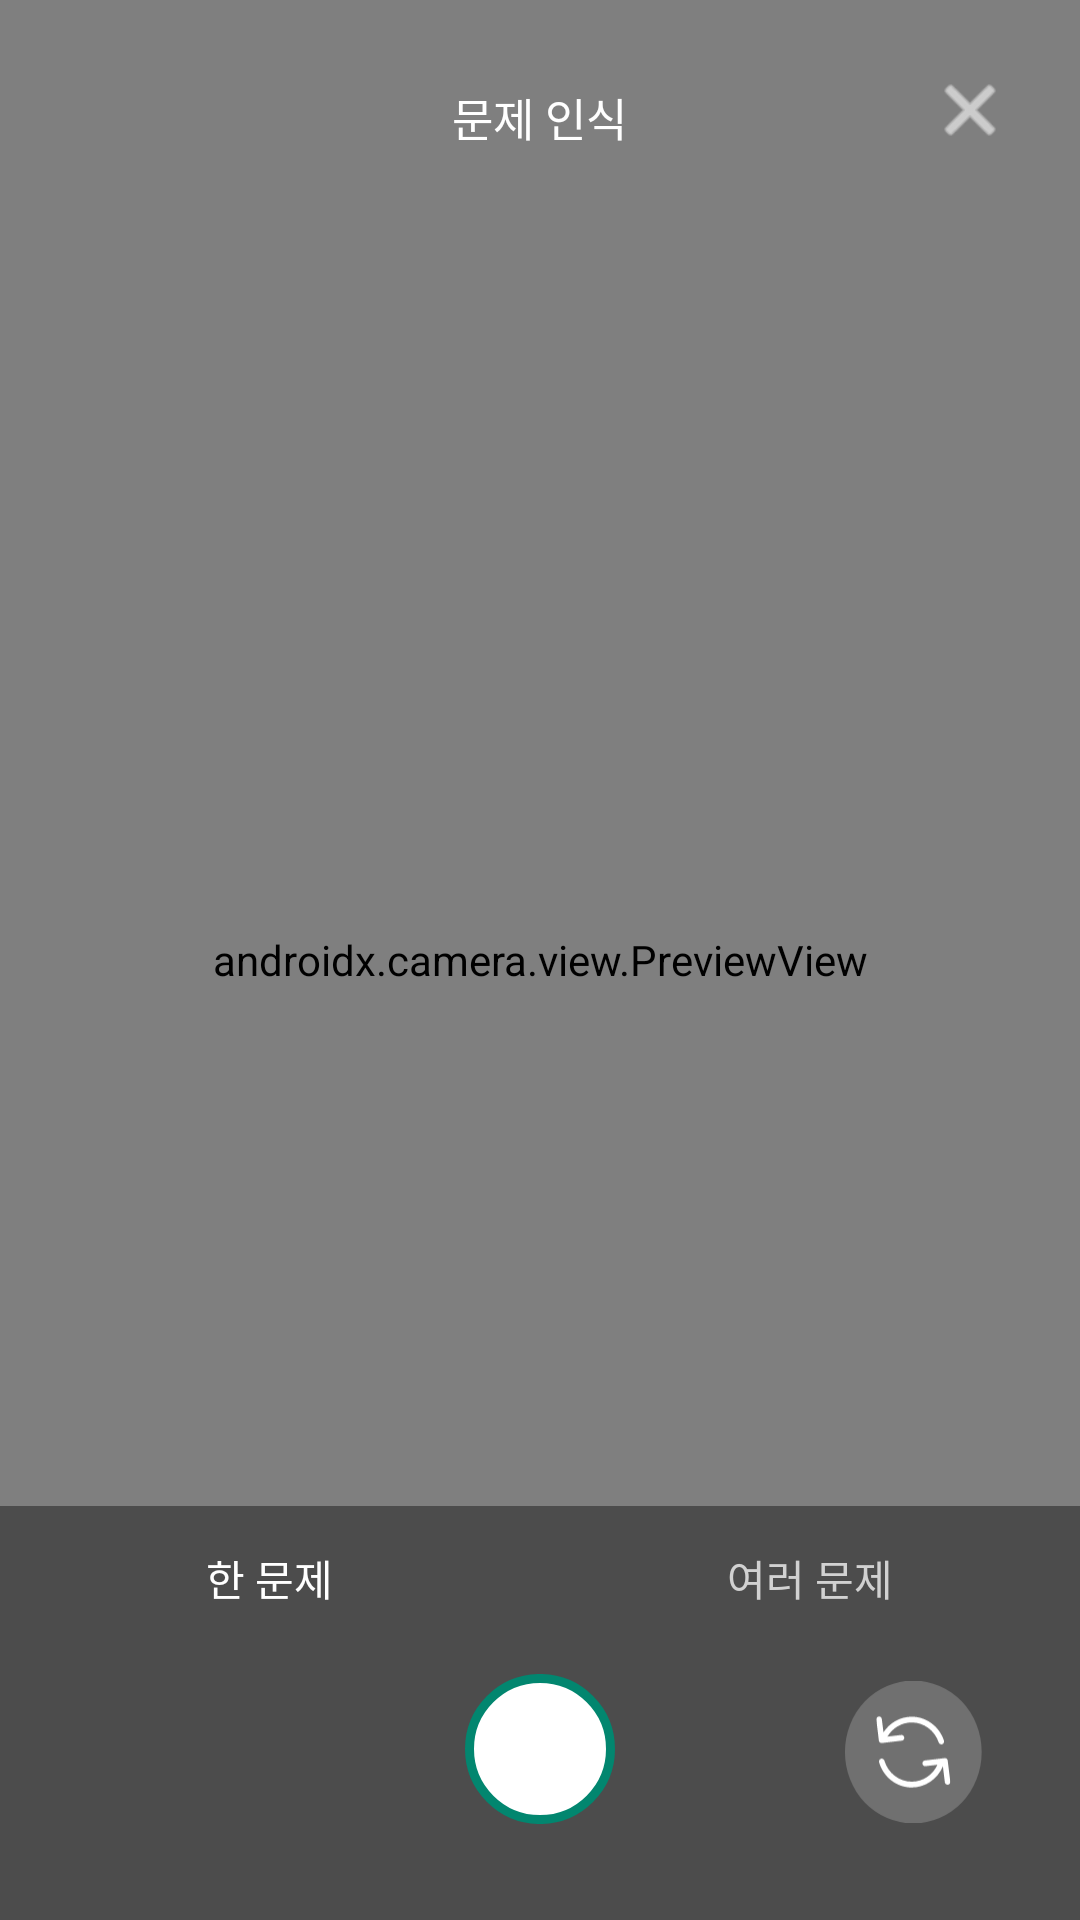

Named icons in this screenshot (1080w x 1920h) and their centers, (x=x, y=y):
cam capture: (x=540, y=1749)
cam rotate: (x=913, y=1752)
close clear cancel: (x=970, y=110)
